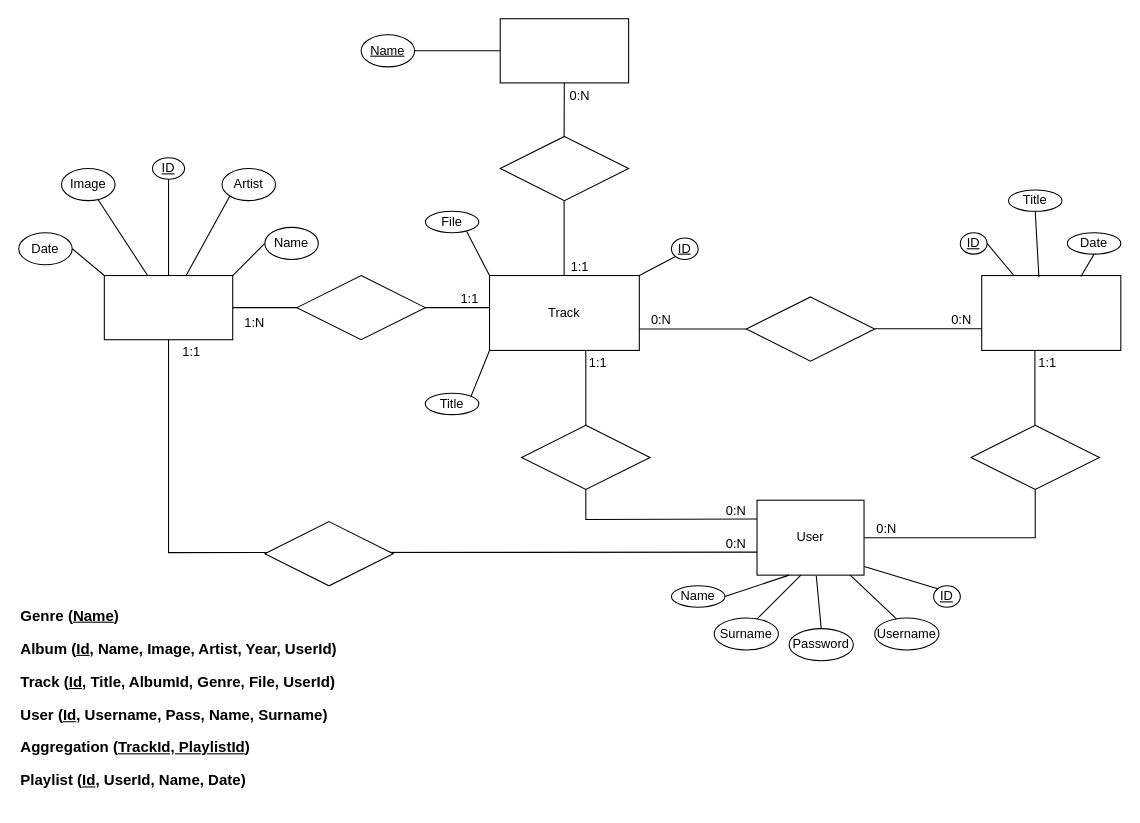
Image size: 1140x823. Some labels were removed from this diagram. Each missing label, with the centre of its shape:
Access: pixel 328 553
Aggregation: pixel 810 328
Album: pixel 168 307
Belonging: pixel 564 168
Creation: pixel 1034 457
Genre: pixel 564 50
Inclusion: pixel 360 307
Playlist: pixel 1051 312
Upload: pixel 585 457
